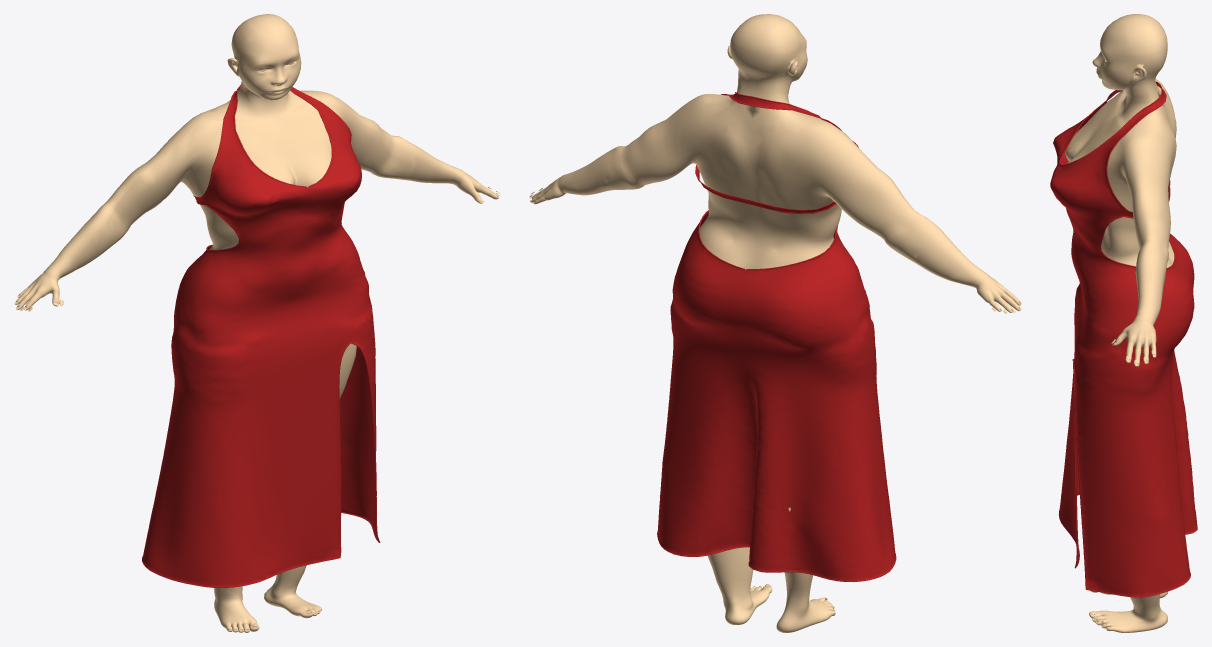
The model's file is dress3.glb.
The picture shows the model from 3 angles, left to right: view 1: azimuth 30°, elevation 25°; view 2: azimuth 150°, elevation 25°; view 3: azimuth 270°, elevation 25°; orthographic projection.
Parts seen in each view (by area): view 1: EveningDress, Body; view 2: EveningDress, Body; view 3: EveningDress, Body.
Boxes of the visible parts, bbox=[...] form: EveningDress: bbox=[142, 85, 380, 587]; Body: bbox=[14, 14, 499, 632]; EveningDress: bbox=[657, 92, 896, 582]; Body: bbox=[530, 14, 1021, 632]; EveningDress: bbox=[1050, 81, 1197, 597]; Body: bbox=[1065, 14, 1176, 632].
Bounding box in the file's own units: 1.59 × 1.88 × 0.4195.
